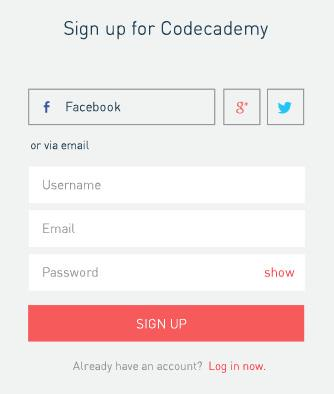button: (27, 304, 304, 342), (27, 87, 217, 127), (222, 87, 262, 127), (265, 87, 305, 126)
field: (28, 165, 307, 205), (28, 253, 306, 292), (29, 210, 306, 249)
